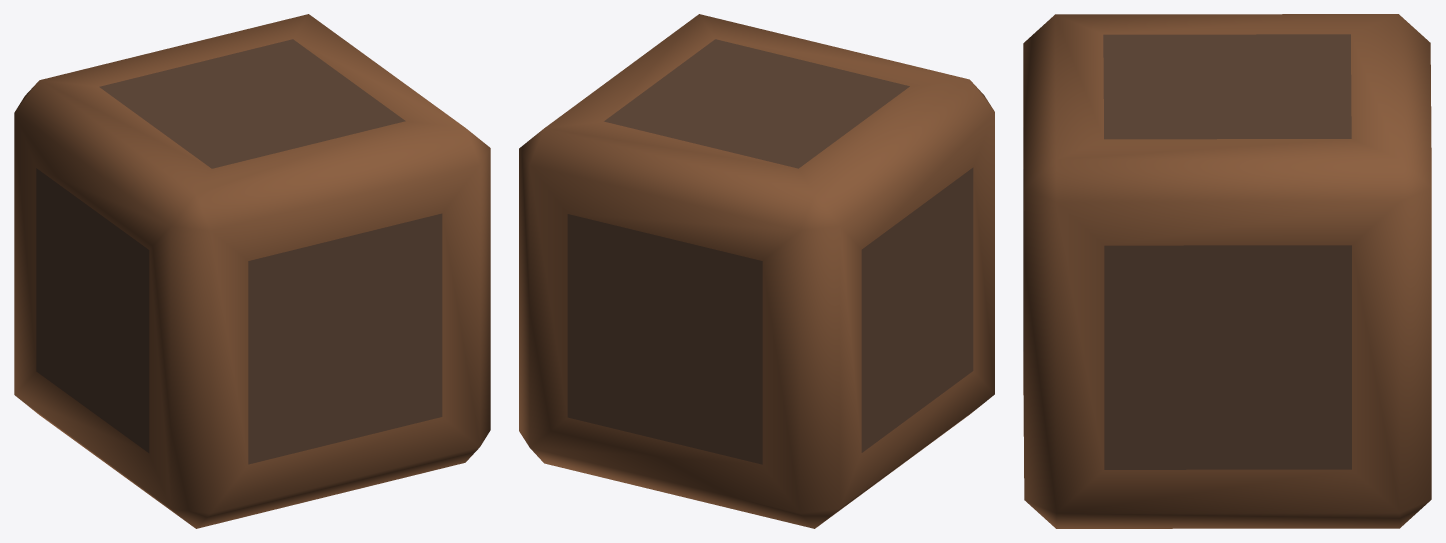
The picture shows the model from 3 angles, left to right: view 1: azimuth 30°, elevation 25°; view 2: azimuth 150°, elevation 25°; view 3: azimuth 270°, elevation 25°; orthographic projection. The views are drawn at different scales.
Visible parts, largest first — view 1: Cube.535; view 2: Cube.535; view 3: Cube.535.
Part boxes in pixels (bbox=[...]): Cube.535: bbox=[14, 14, 490, 528]; Cube.535: bbox=[519, 14, 994, 528]; Cube.535: bbox=[1023, 14, 1431, 528].
Bounding box in the file's own units: 17.55 × 17.5 × 17.55.
